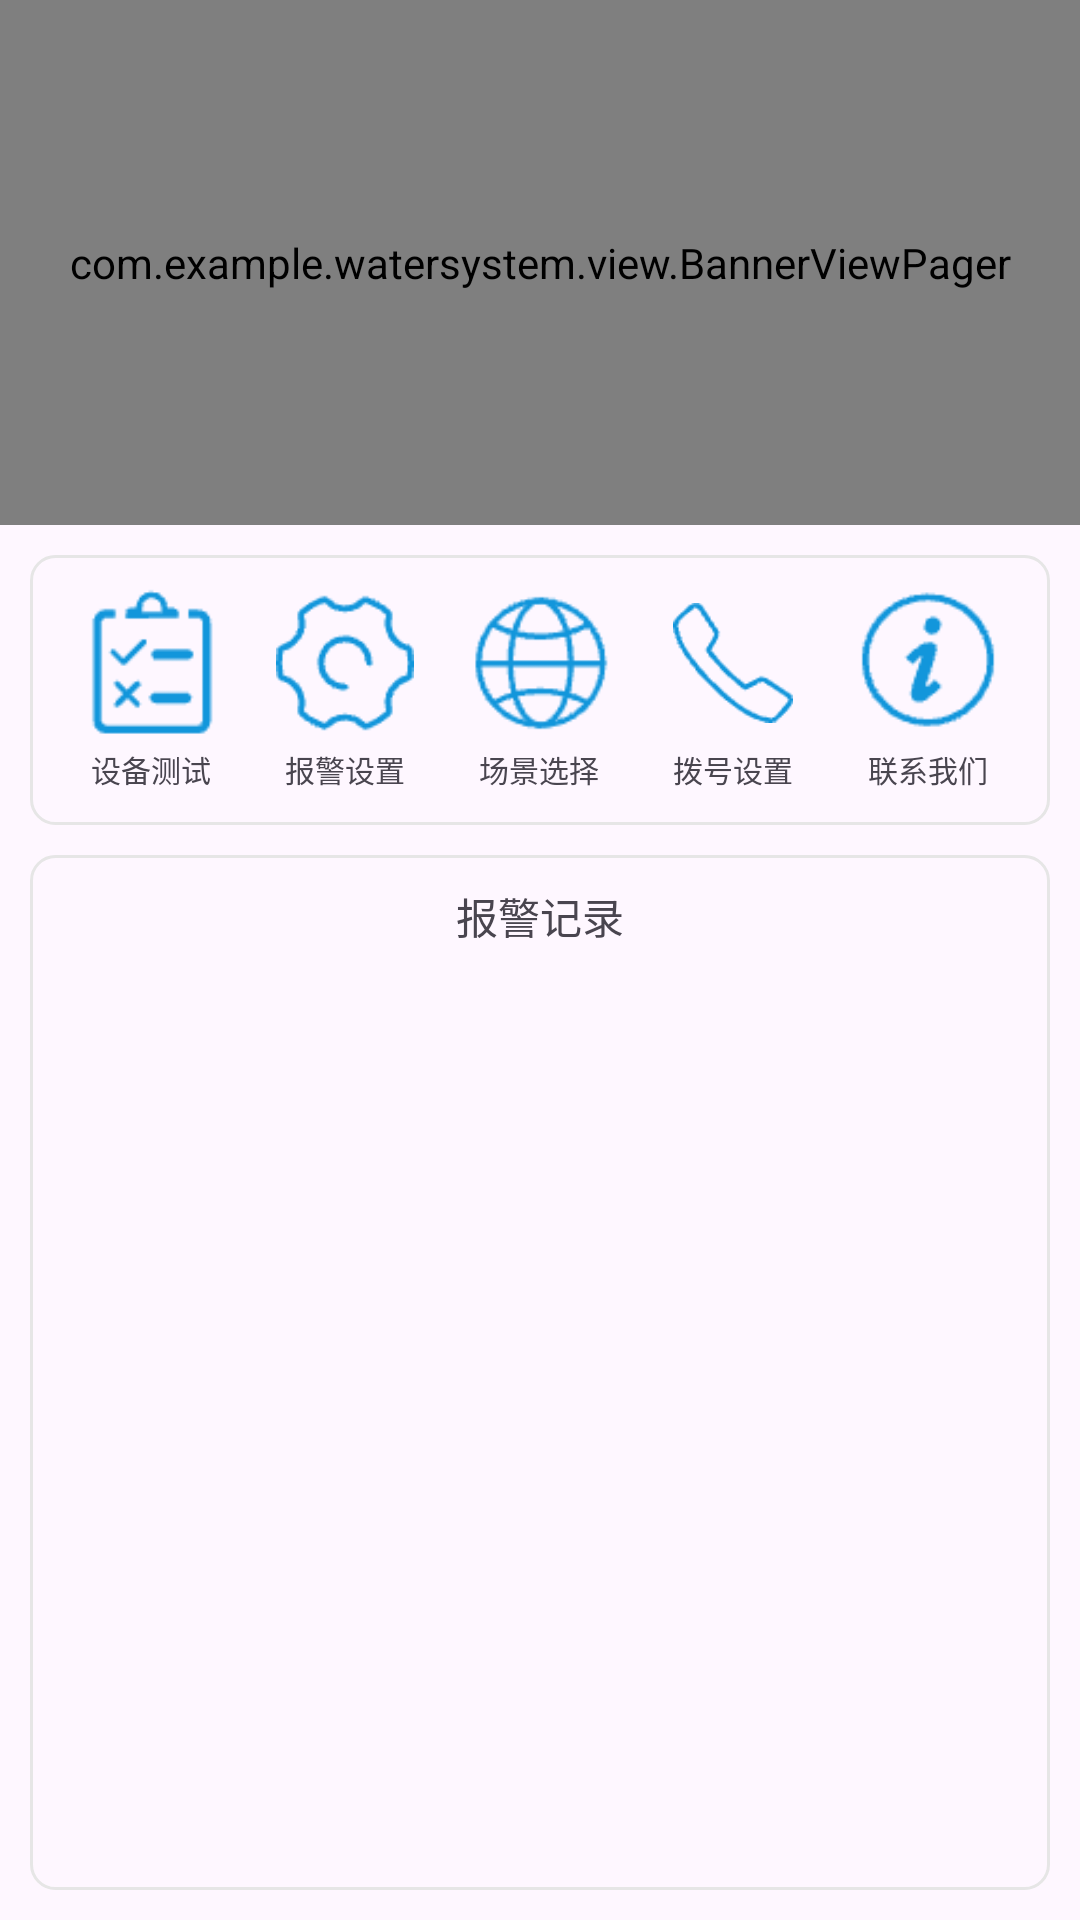

Named icons in this screenshot (1080 x 1920) and their centers, (x=x, y=y):
home about: (x=928, y=659)
